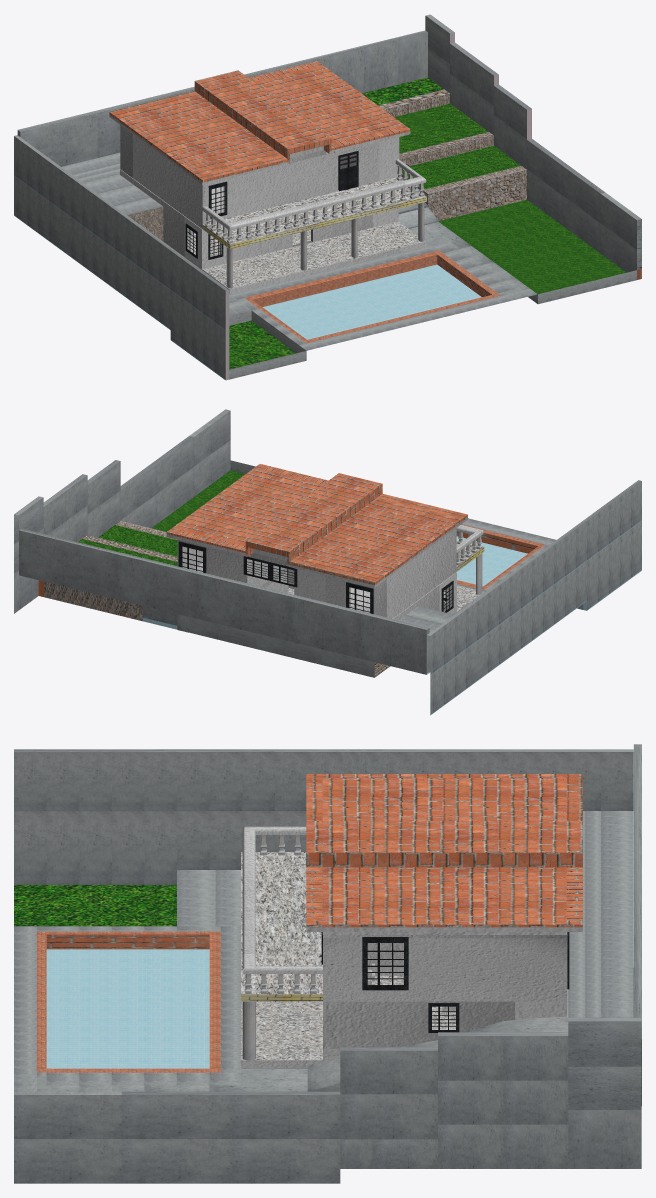
File: Fachada.obj
3 views of the same model, one above another, from view 1: azimuth 30°, elevation 25°; view 2: azimuth 150°, elevation 25°; view 3: azimuth 270°, elevation 25° (orthographic). The views are drawn at different scales.
Visible parts, largest first — view 1: pPlane4, pCube3, Cuadro:pCube49, Cuadro:polySurface7, Cuadro:polySurface52; view 2: pPlane4, pCube3, Cuadro:pCube49, Cuadro:polySurface7, Cuadro:polySurface51, polySurface49, polySurface48; view 3: pPlane4, pCube3, Cuadro:pCube49, Cuadro:polySurface7, polySurface47.
Part boxes in pixels (x1,y1,x2,y2): pPlane4: (14,14,641,380); pCube3: (109,61,410,184); Cuadro:pCube49: (120,125,426,249); Cuadro:polySurface7: (120,169,426,294); Cuadro:polySurface52: (338,151,358,191); pPlane4: (14,409,641,715); pCube3: (166,464,467,587); Cuadro:pCube49: (177,525,484,618); Cuadro:polySurface7: (265,553,484,620); Cuadro:polySurface51: (243,556,297,587); polySurface49: (346,582,373,613); polySurface48: (178,541,206,573); pPlane4: (14,744,641,1183); pCube3: (306,774,582,934); Cuadro:pCube49: (241,826,566,1001); Cuadro:polySurface7: (241,963,566,1067); polySurface47: (362,937,408,990).
Size of the model in its own units: 21.87 by 6.01 by 19.25.
10 materials, 9 textured.
